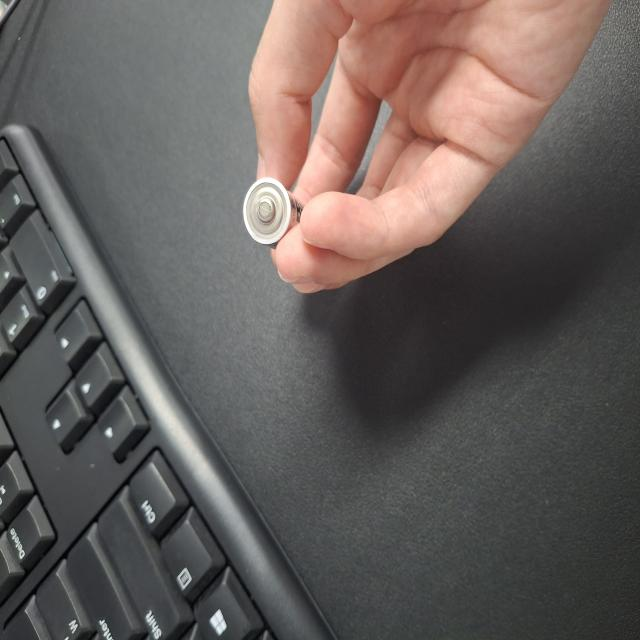AA: (294, 324, 346, 402)
